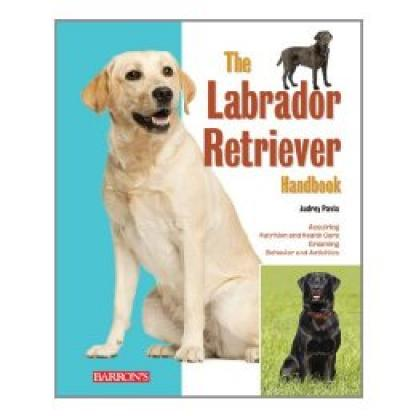dog: (80, 51, 262, 368), (276, 276, 348, 383)
